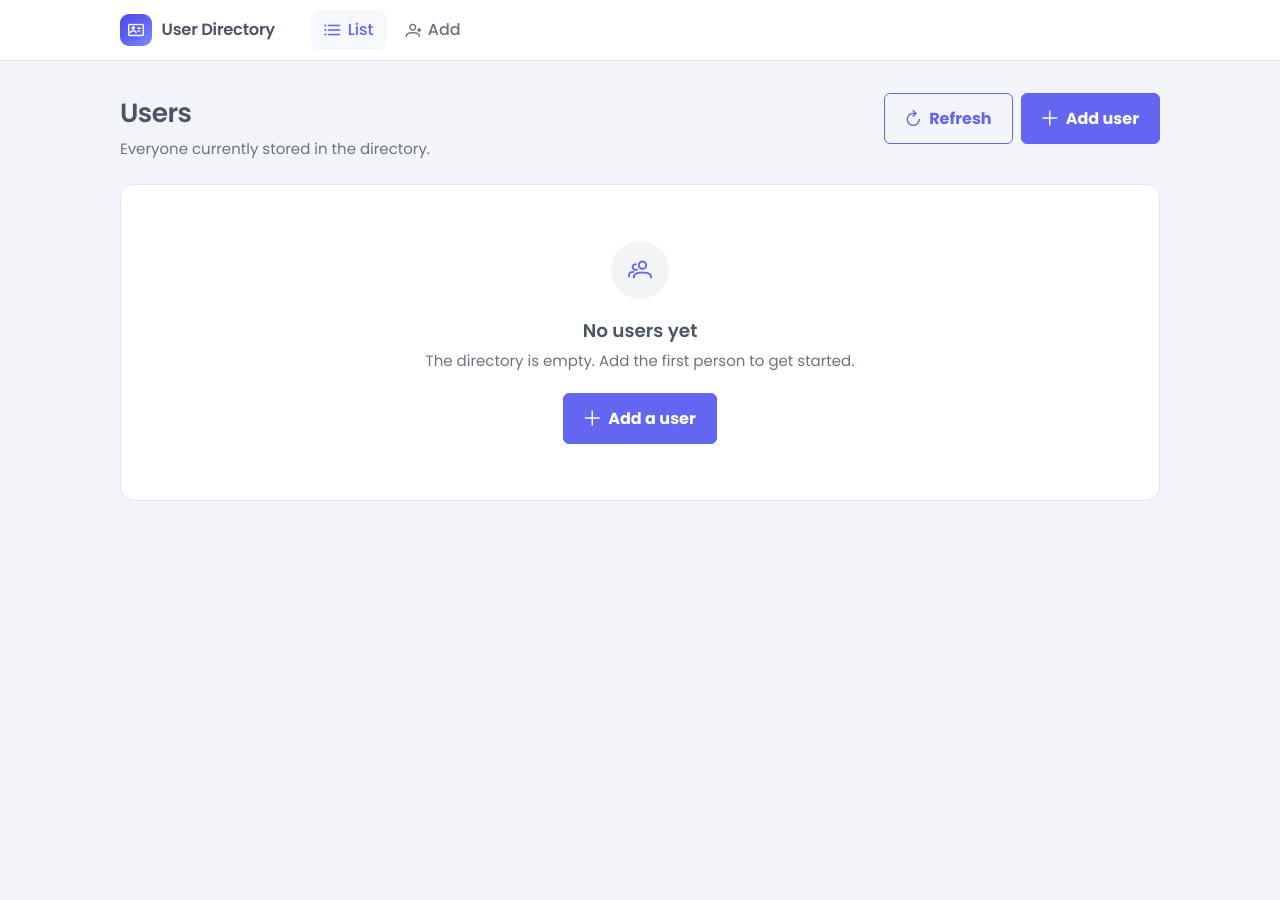
Test: App › navigates to the add page when the Add link is clicked
Step 1. Click the link "Add" → (433, 29), box [405,18,461,41]
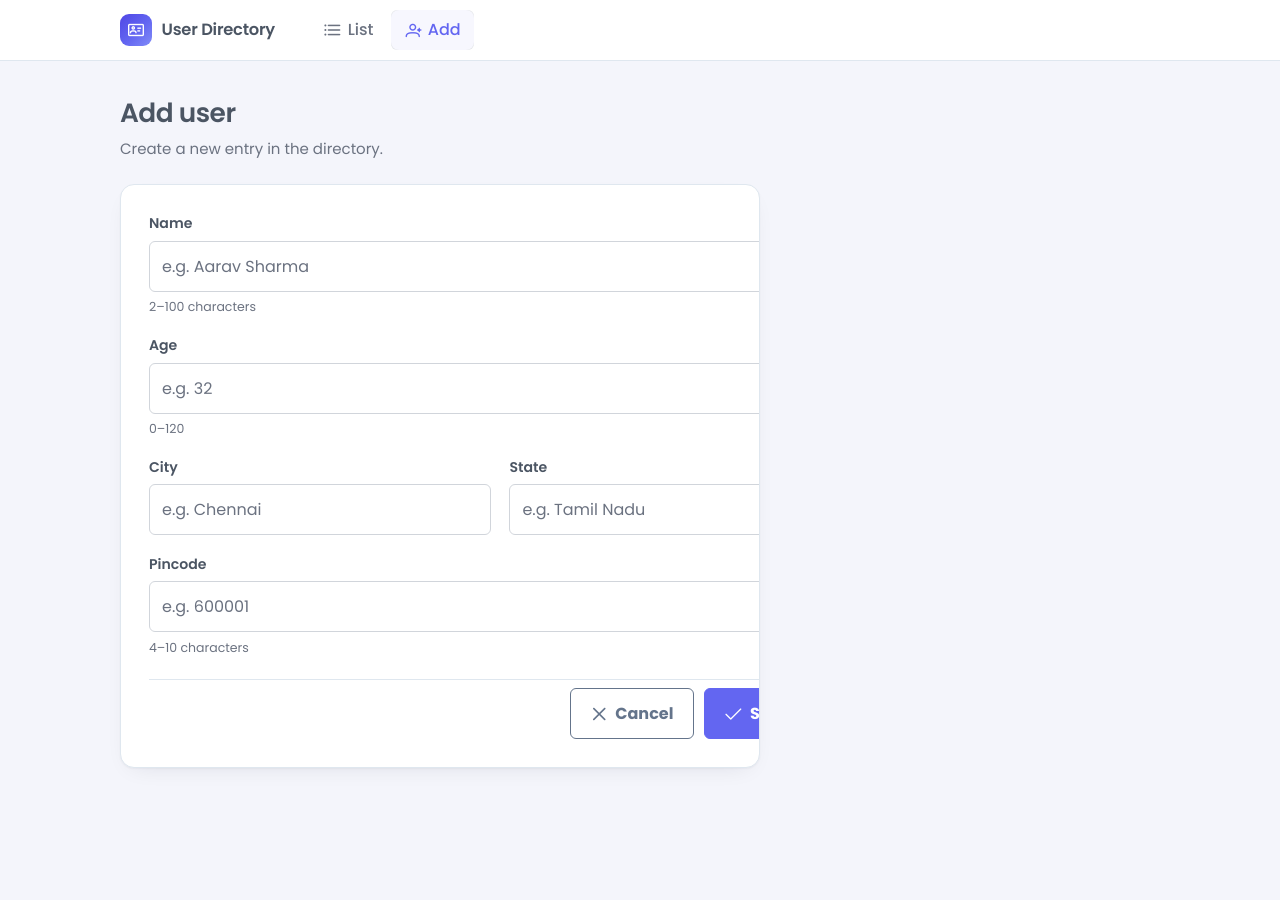
Expected: the heading "Add user" is shown, [120,94,236,131]
